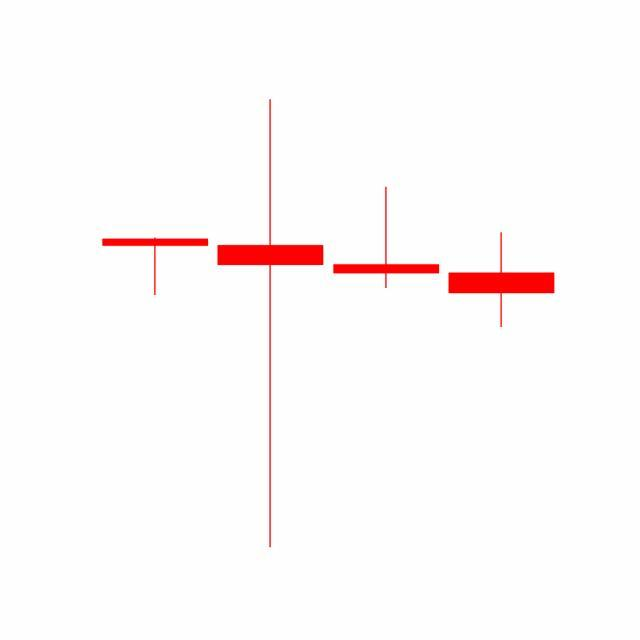Spinning Top: (329, 185, 445, 290)
